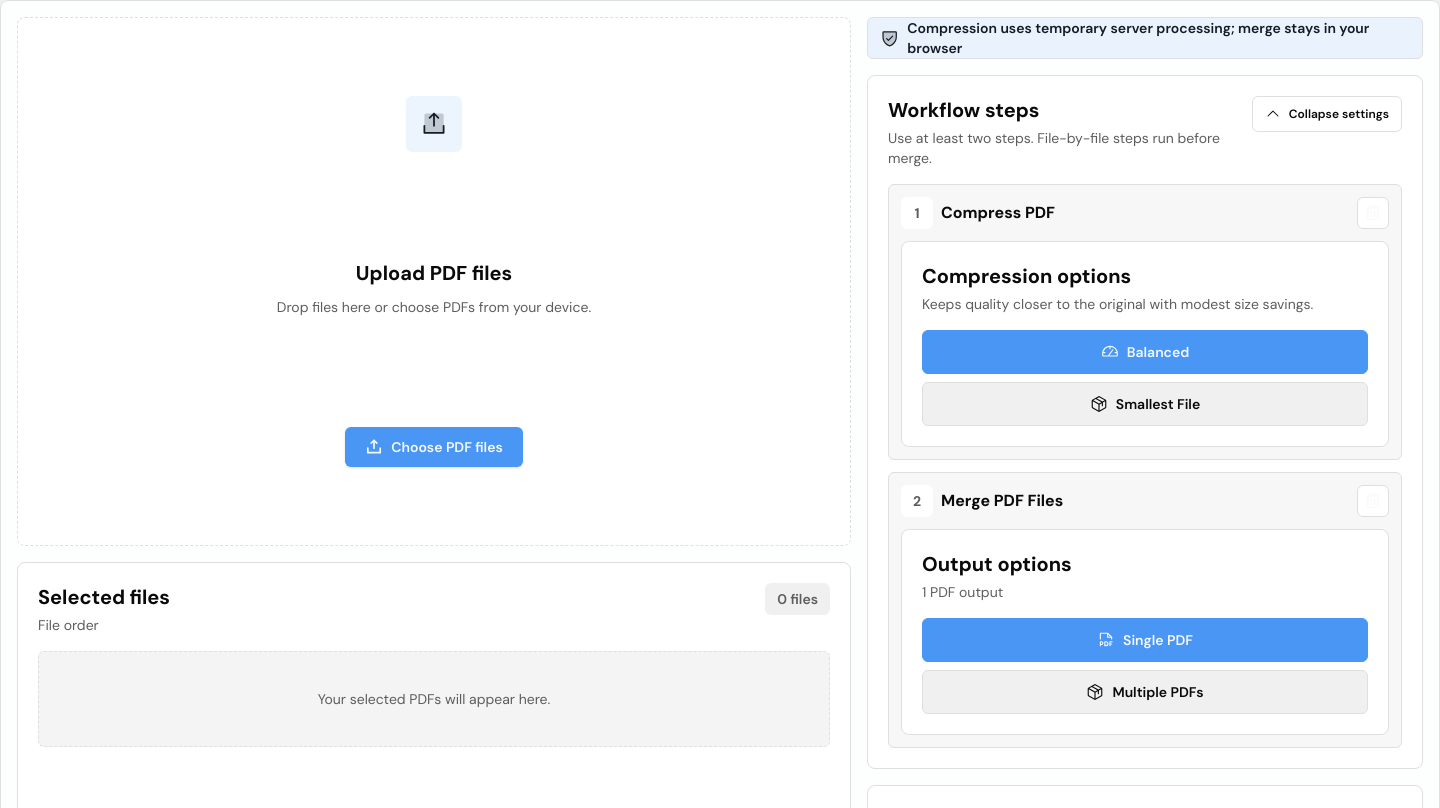
Test: WorkflowBuilderTool › collapses workflow settings into step summaries
The width and height of the screenshot is (1440, 808).
Click the button "Collapse settings": (1327, 114) [1252,96,1402,132]
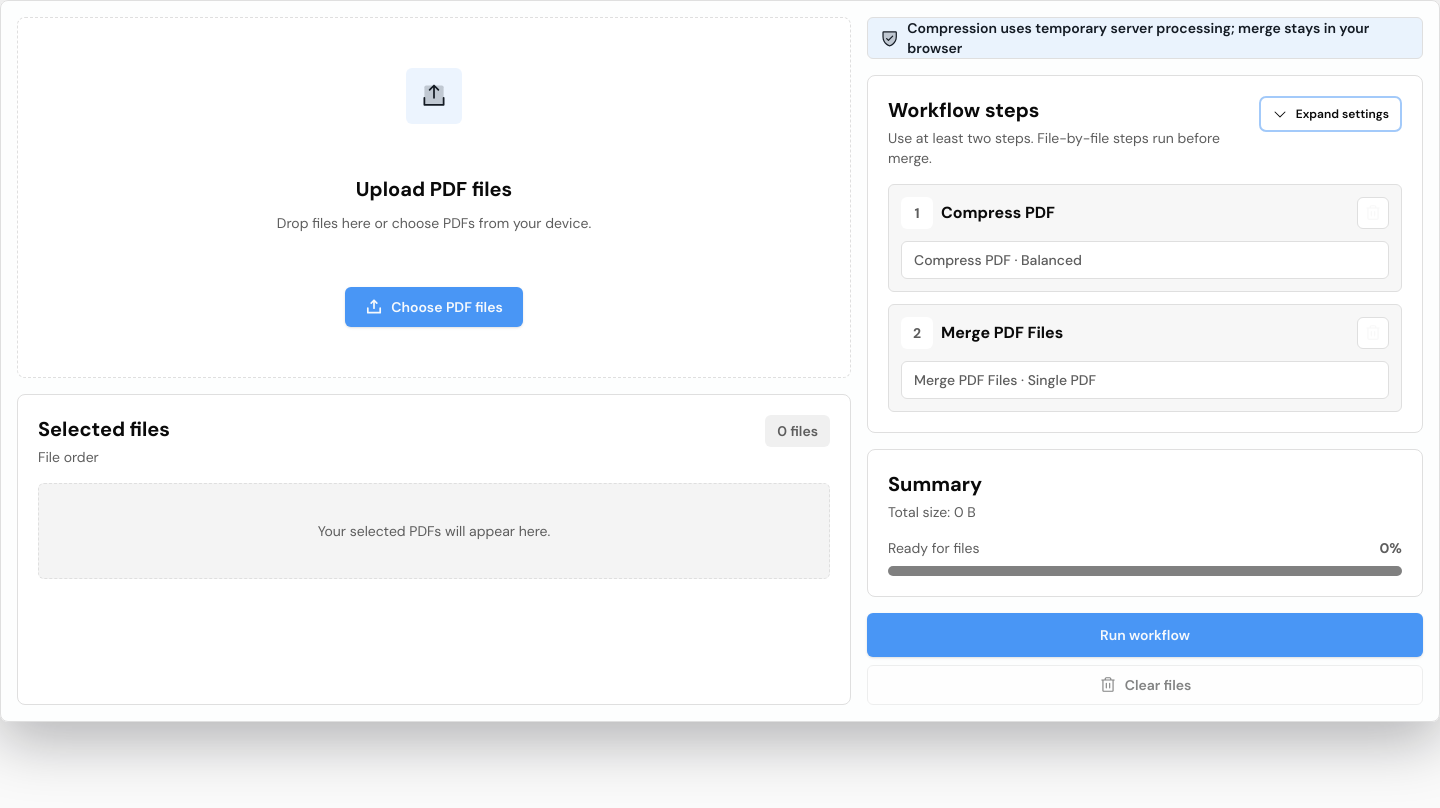
Now the button "Expand settings" is shown, box [1259,96,1402,132]
Now the text "Compress PDF · Balanced" is shown, box [901,241,1389,279]
Now the text "Merge PDF Files · Single PDF" is shown, box [901,361,1389,399]
